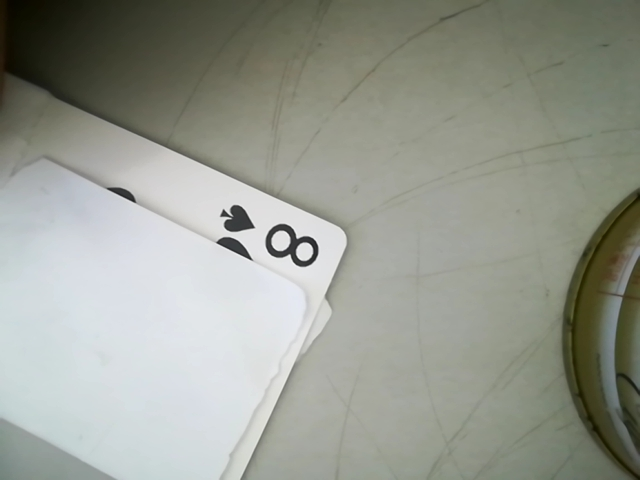ht 8: (204, 197, 338, 270)
